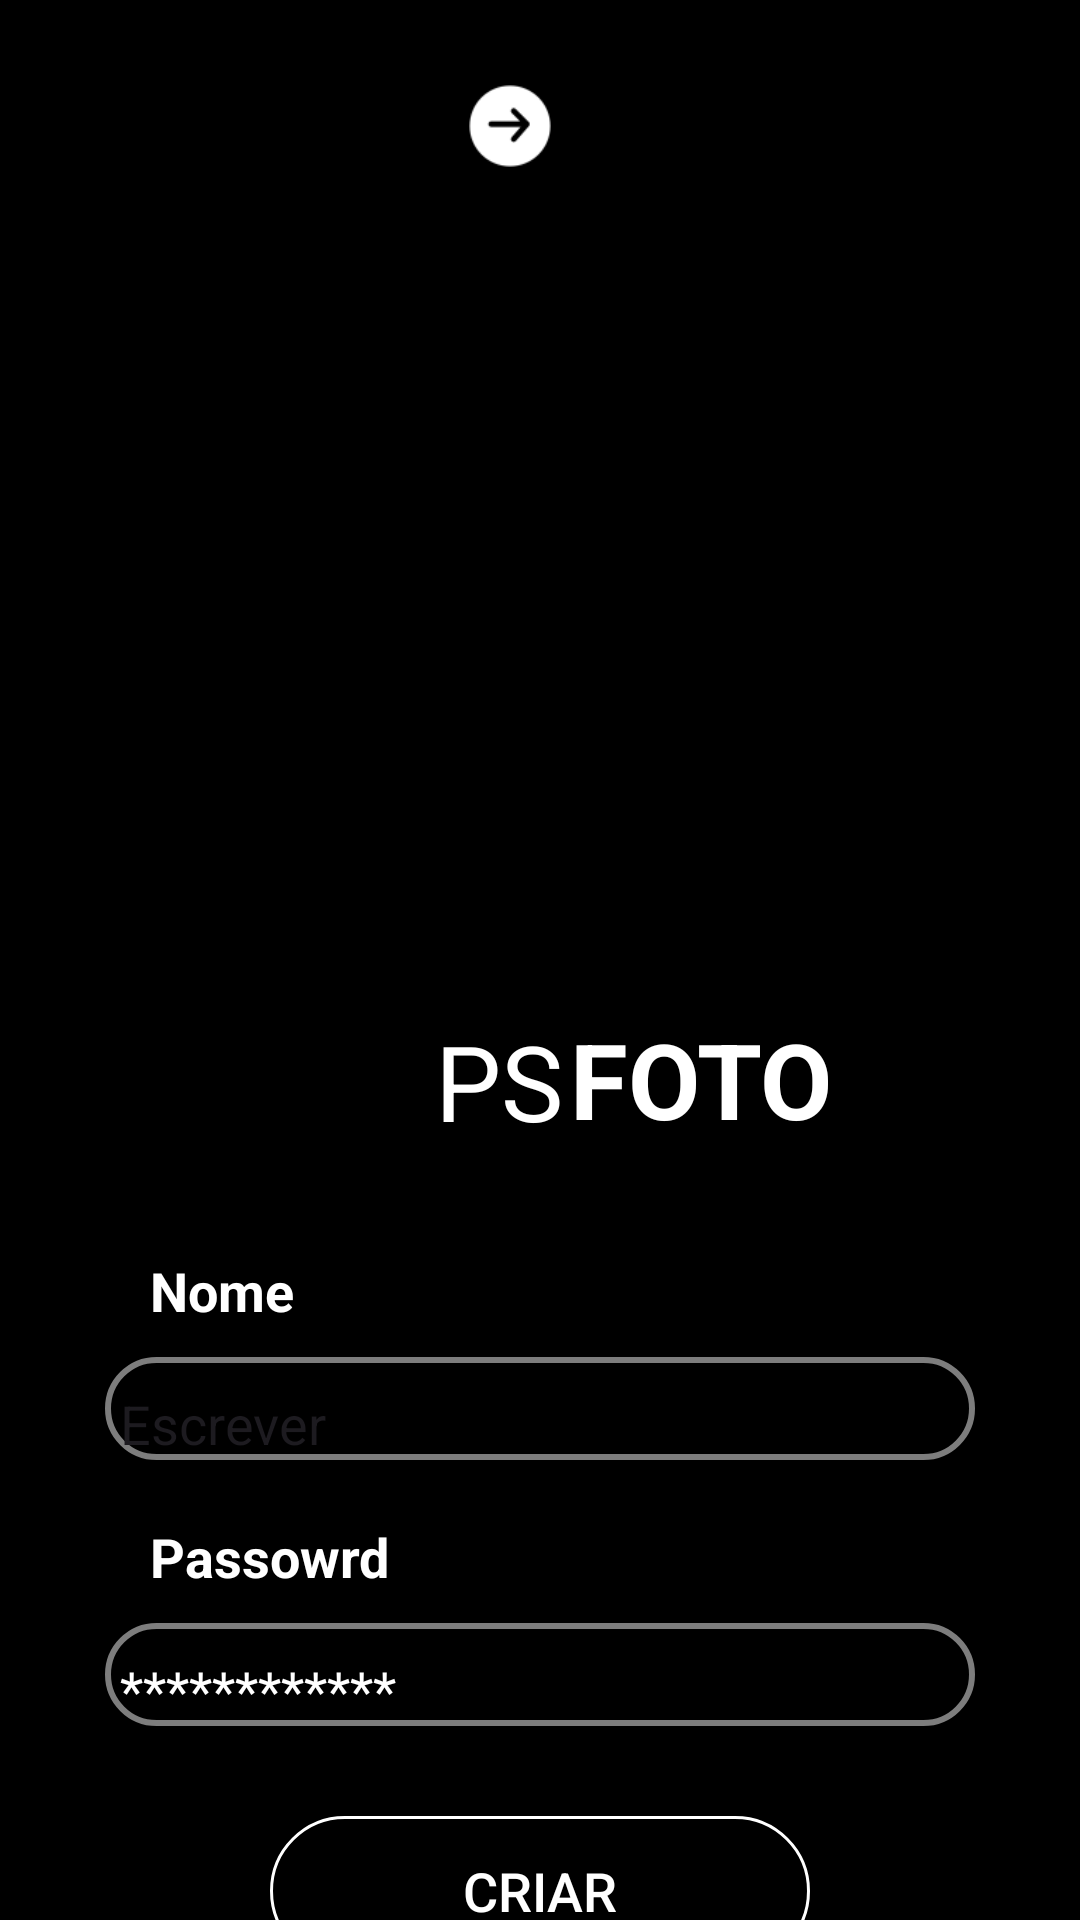

Icons on this 1080×1920 Android screen, each with the point to tap as (x=x, y=y):
flechabranca: (x=510, y=126)
